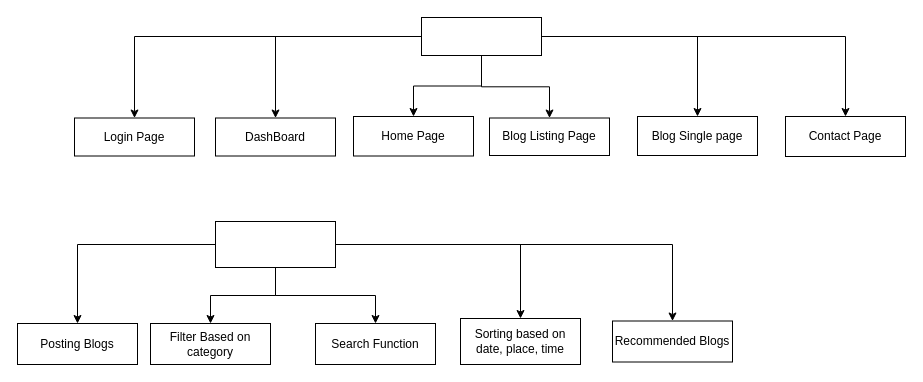
Some shapes in this 923 by 382 pixel diagram are drawn without their labels. The shapes that lost their labels are listed below. From the top down, each one's box as (x1, y1, x2, y2) in pixels, then its label:
(420, 16, 542, 56): Bhaktapur Blogs
(214, 220, 336, 268): Functions involved
